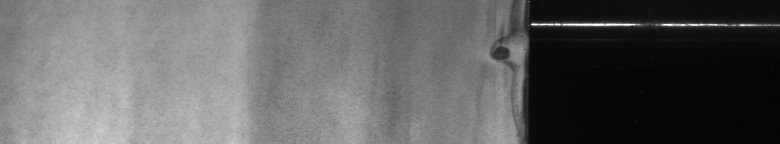hb: (477, 4, 512, 104)
